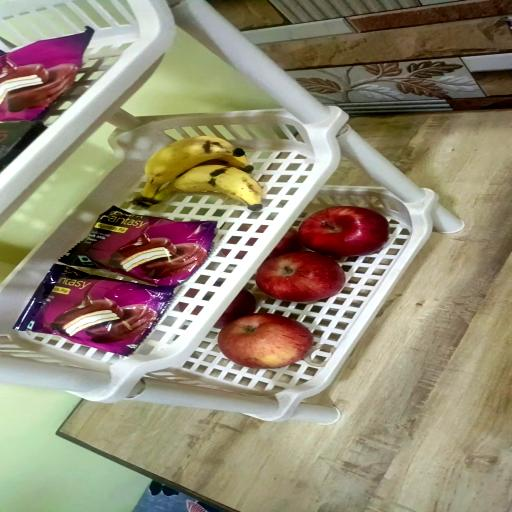Apple: (220, 314, 314, 368), (299, 208, 389, 259), (256, 252, 346, 302), (217, 288, 255, 326), (268, 228, 304, 256)
Choco Fills: (0, 121, 45, 172)
Choco Pie: (13, 266, 172, 356), (59, 206, 216, 286), (0, 28, 93, 121)
